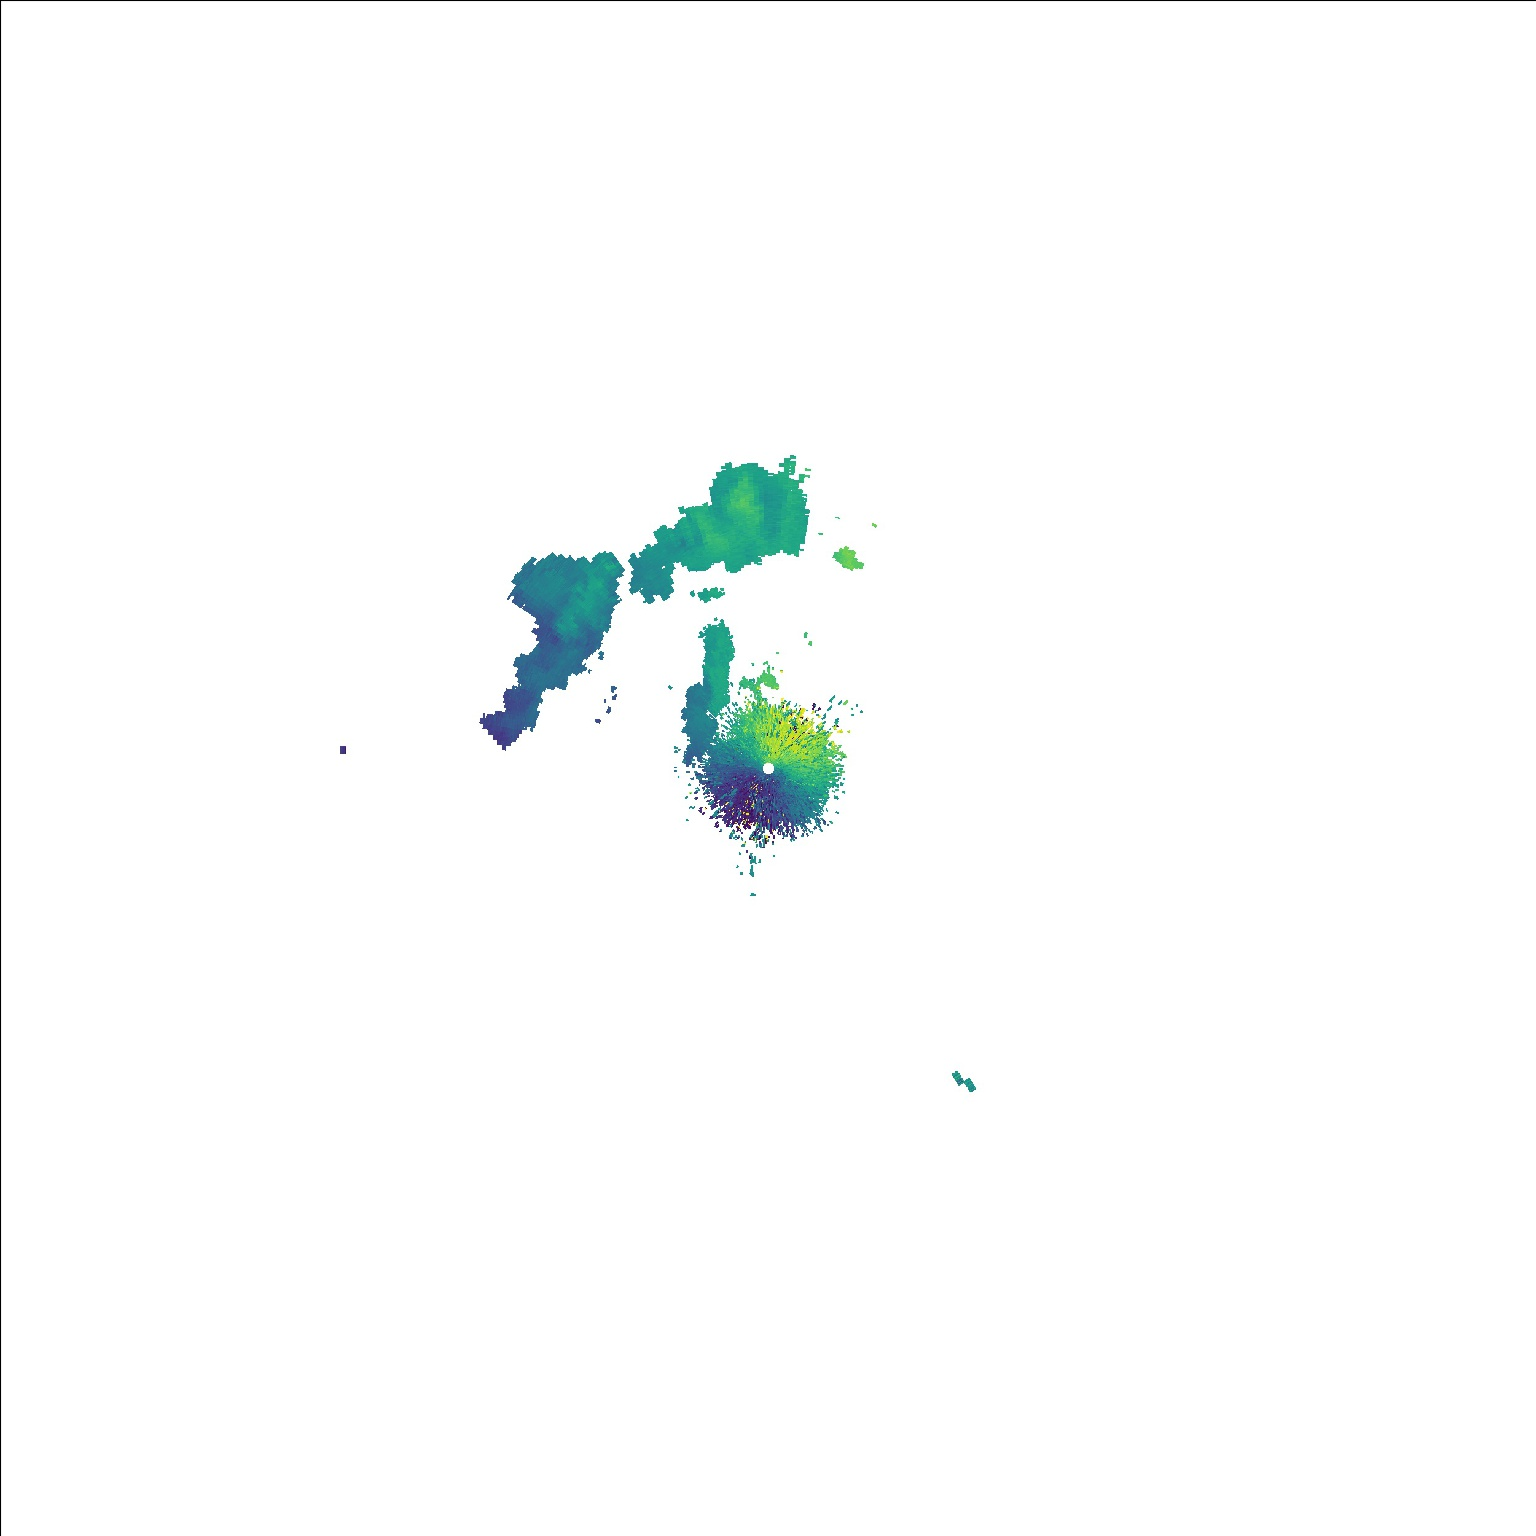fall: (947, 1065, 980, 1096)
